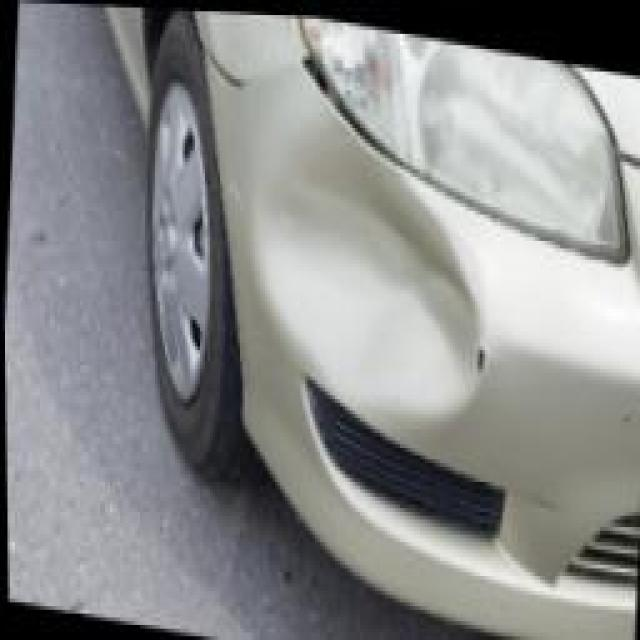Bumper: (235, 109, 501, 463)
